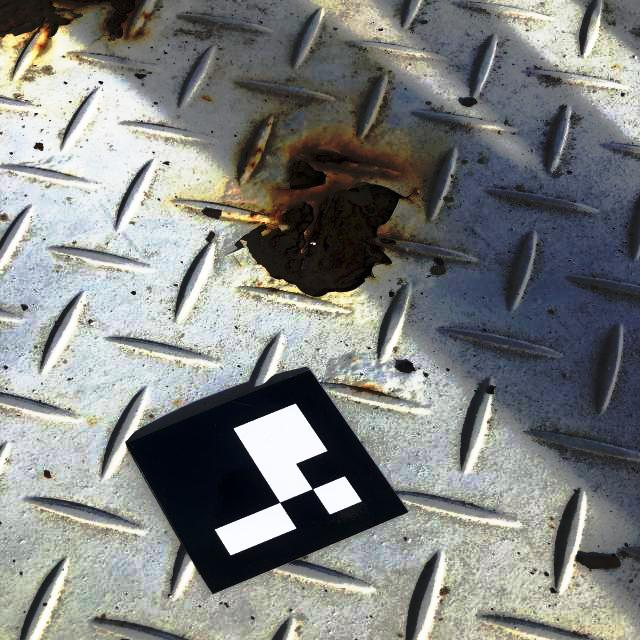Corrosion: (241, 182, 407, 297), (314, 153, 401, 176), (288, 161, 327, 190)
